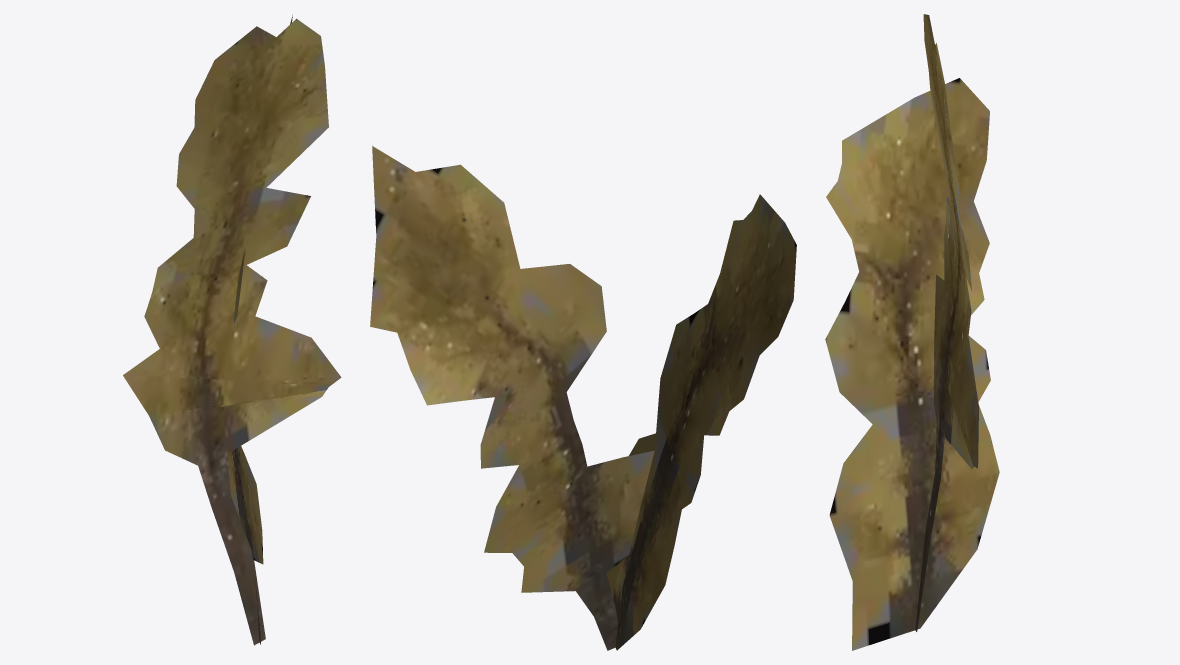
The model's file is Seaweed_C3-transformed.glb.
3 renders of one model, left to right at view 1: azimuth 30°, elevation 25°; view 2: azimuth 150°, elevation 25°; view 3: azimuth 270°, elevation 25°, orthographic. The views are drawn at different scales.
Parts seen in each view (by area): view 1: Seaweed_C3; view 2: Seaweed_C3; view 3: Seaweed_C3.
Boxes of the visible parts, bbox=[...] form: Seaweed_C3: bbox=[123, 14, 341, 645]; Seaweed_C3: bbox=[370, 146, 796, 650]; Seaweed_C3: bbox=[825, 14, 999, 650].
Bounding box in the file's own units: 0.1867 × 0.3191 × 0.1593.
Materials: 1 (1 with a texture image).
